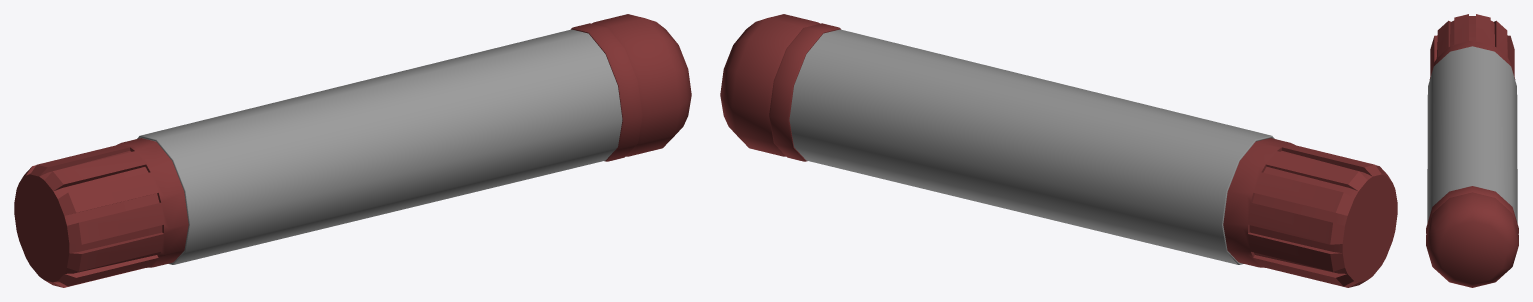
File: FlareStick.FBX
3 renders of one model, left to right at view 1: azimuth 30°, elevation 25°; view 2: azimuth 150°, elevation 25°; view 3: azimuth 270°, elevation 25°, orthographic. The views are drawn at different scales.
Parts seen in each view (by area): view 1: Flare_stick_body, glowstick; view 2: Flare_stick_body, glowstick; view 3: Flare_stick_body, glowstick.
Part boxes in pixels (x1,y1,x2,y2): Flare_stick_body: [140, 29, 622, 264]; glowstick: [14, 14, 691, 287]; Flare_stick_body: [789, 29, 1271, 264]; glowstick: [720, 14, 1397, 287]; Flare_stick_body: [1427, 46, 1517, 222]; glowstick: [1426, 14, 1518, 287].
Size of the model in its own units: 32.55 by 6.23 by 6.23.
